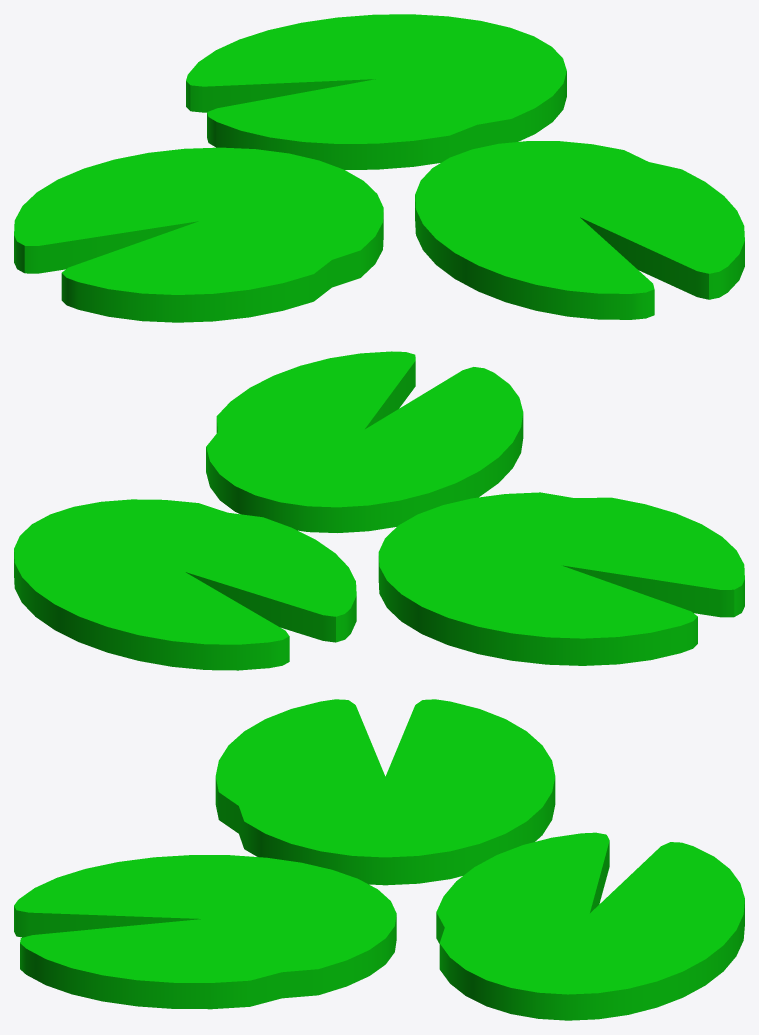
File: Plant_Lily_Pad_01.fbx
3 renders of one model, top to bottom at view 1: azimuth 30°, elevation 25°; view 2: azimuth 150°, elevation 25°; view 3: azimuth 270°, elevation 25°, orthographic.
Parts seen in each view (by area): view 1: Plant_Lily_Pad_01; view 2: Plant_Lily_Pad_01; view 3: Plant_Lily_Pad_01.
Part boxes in pixels (left/top/right/bottom): Plant_Lily_Pad_01: left=14, top=14, right=744, bottom=322; Plant_Lily_Pad_01: left=14, top=351, right=744, bottom=670; Plant_Lily_Pad_01: left=14, top=699, right=744, bottom=1020.
Size of the model in its own units: 107 by 4.71 by 112.
